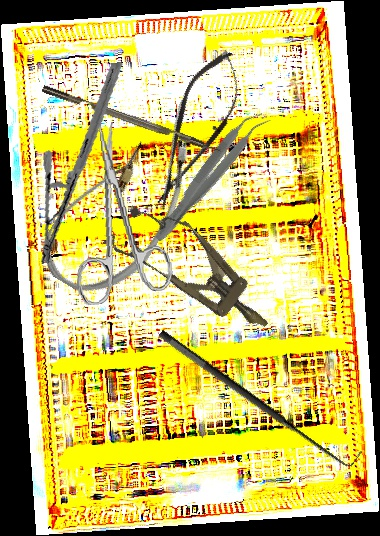Cannula: (30, 106, 209, 314)
Chopper: (41, 75, 236, 161)
Hook Surgical: (156, 314, 363, 476)
Iris Scissors: (60, 117, 176, 307)
Micro Scissor: (137, 42, 256, 216)
Needle Holder: (9, 61, 152, 265)
Speculum: (101, 189, 288, 353)
Tissue Forceps: (149, 104, 272, 250)
